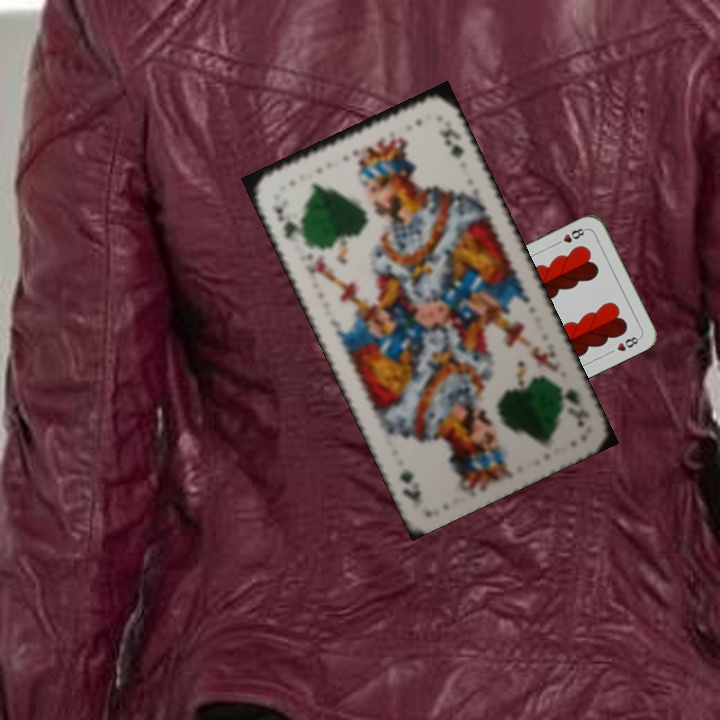GK: (551, 378, 588, 430), (271, 203, 307, 246)
H8: (551, 224, 589, 248)
